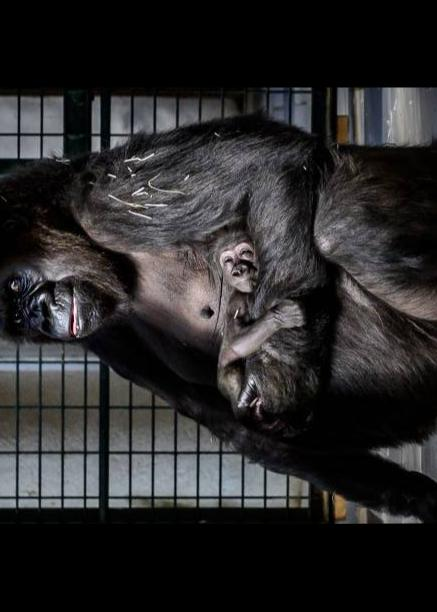gorille_Autres: (0, 128, 437, 456)
